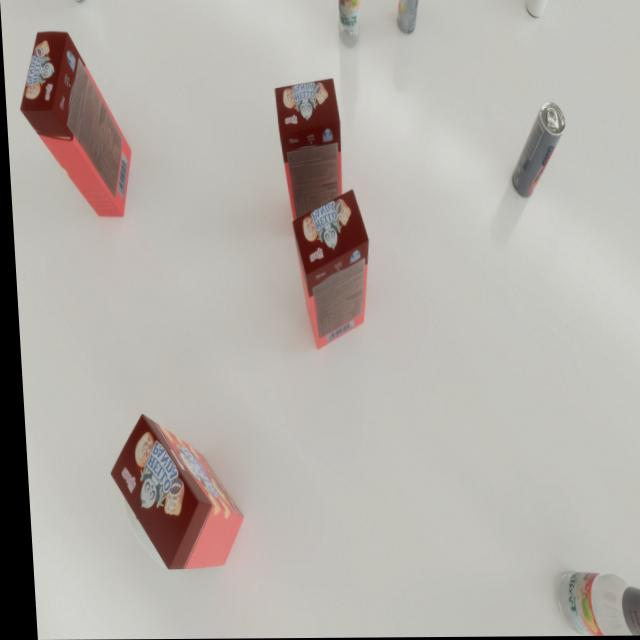Bottle: (548, 568, 640, 637)
HelloPanda: (15, 31, 132, 217), (102, 413, 240, 570), (288, 190, 371, 350), (273, 79, 344, 236)
Rita_zero_sugar: (506, 102, 567, 199)
Salt: (116, 479, 177, 569)
